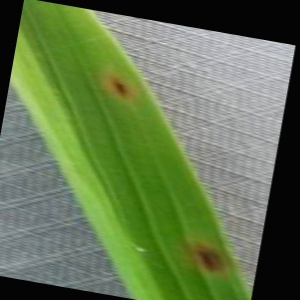Bacterial_Leaf_Blight: (188, 238, 233, 278), (103, 71, 138, 103)
